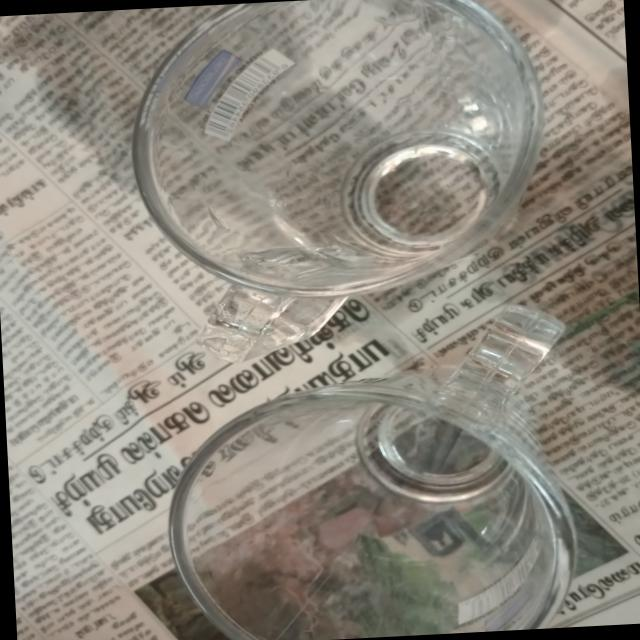glass-VX4N: (123, 0, 560, 367), (156, 310, 613, 640)
